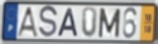0: (81, 6, 98, 40)
6: (122, 7, 138, 41)
A: (15, 6, 39, 38), (56, 7, 79, 38)
M: (97, 7, 122, 39)
S: (38, 4, 59, 40)
